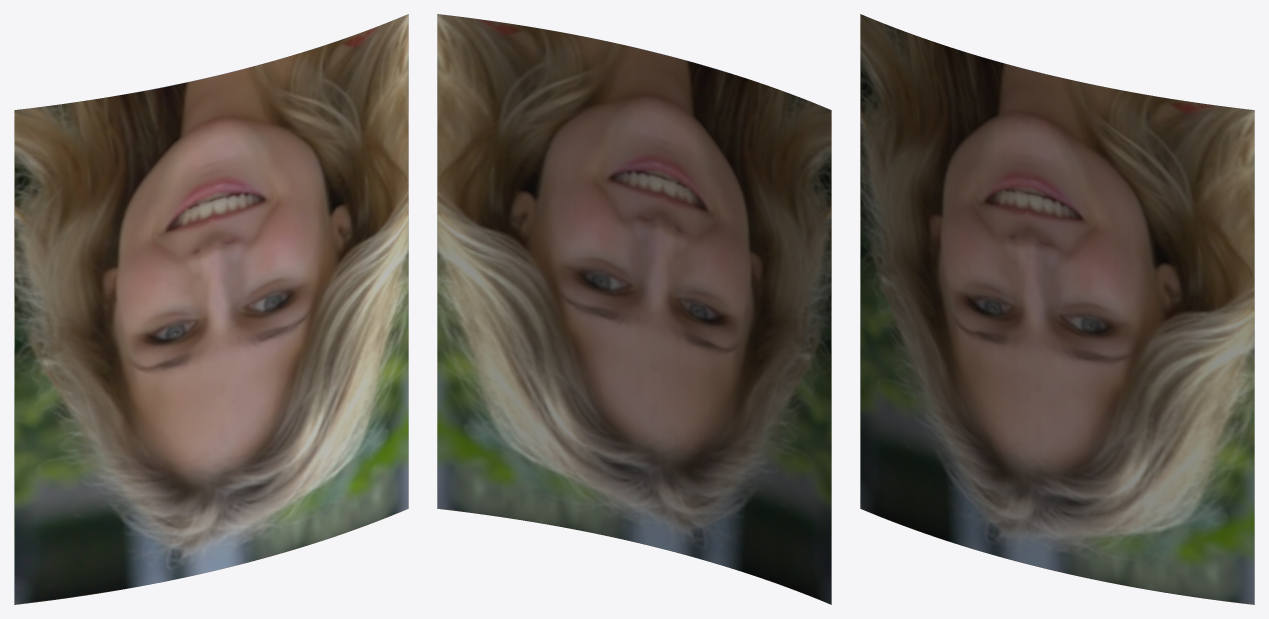
3 views of the same model, side by side, from view 1: azimuth 30°, elevation 25°; view 2: azimuth 150°, elevation 25°; view 3: azimuth 330°, elevation 25° (orthographic).
Parts seen in each view (by area): view 1: world; view 2: world; view 3: world.
Part boxes in pixels (x1=…): world: x1=14, y1=14, x2=408, y2=604; world: x1=437, y1=14, x2=831, y2=604; world: x1=860, y1=14, x2=1254, y2=604.
Size of the model in its own units: 1.5 by 1.8 by 0.1.
1 material, 1 textured.
